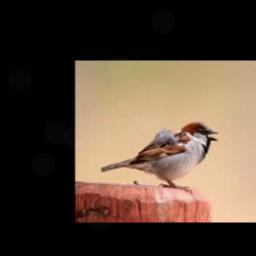Sparrow: (101, 120, 219, 192)
